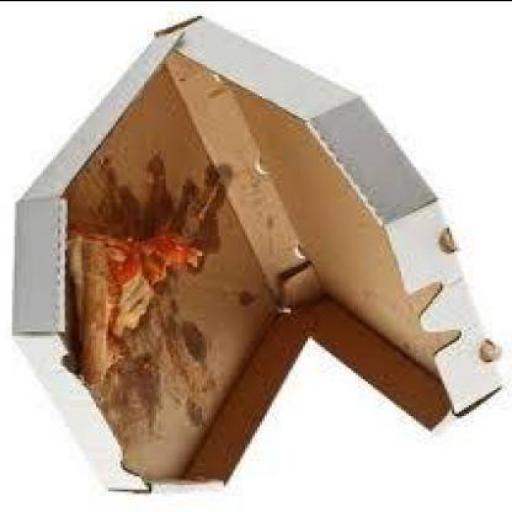biodegradable: (72, 224, 207, 380)
cardboard: (17, 17, 507, 500), (166, 15, 508, 434), (17, 32, 313, 497)
